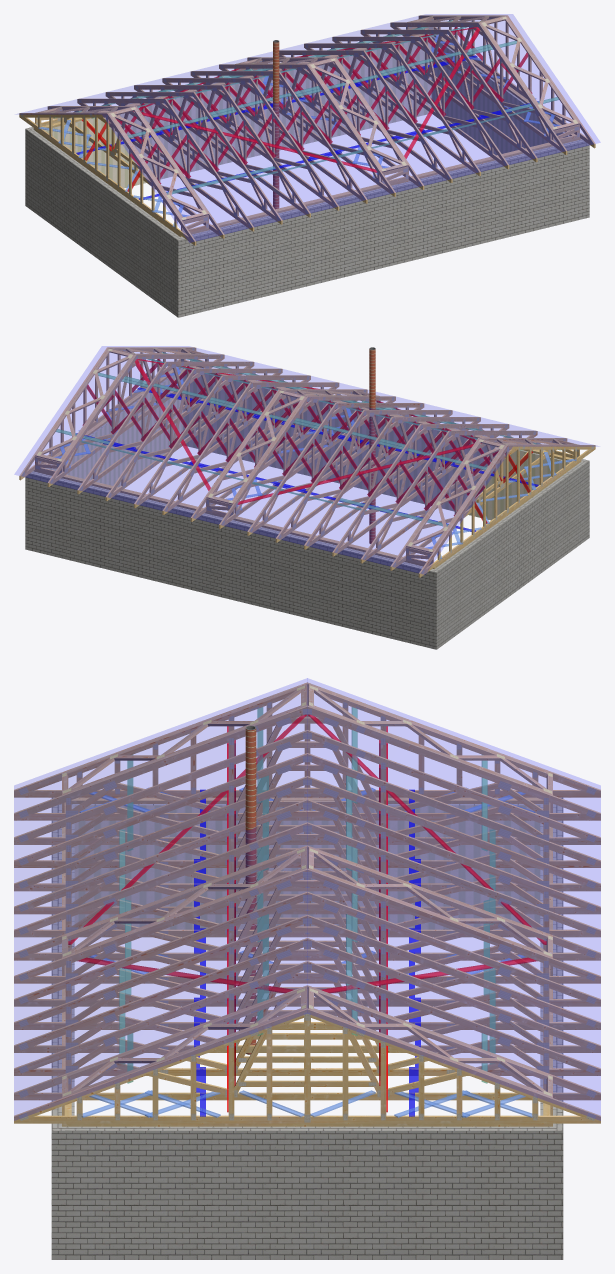
Rendered from exposed_roof_framework.glb.
The picture shows the model from 3 angles, top to bottom: view 1: azimuth 30°, elevation 25°; view 2: azimuth 150°, elevation 25°; view 3: azimuth 270°, elevation 25°; orthographic projection. The views are drawn at different scales.
Parts seen in each view (by area): view 1: skfb_offset; view 2: skfb_offset; view 3: skfb_offset.
Part boxes in pixels (<box>): skfb_offset: <box>19,14,599,317</box>; skfb_offset: <box>15,346,595,649</box>; skfb_offset: <box>14,678,600,1259</box>.
Bounding box in the file's own units: 13070 × 5900 × 9660.
13 materials, 8 textured.
